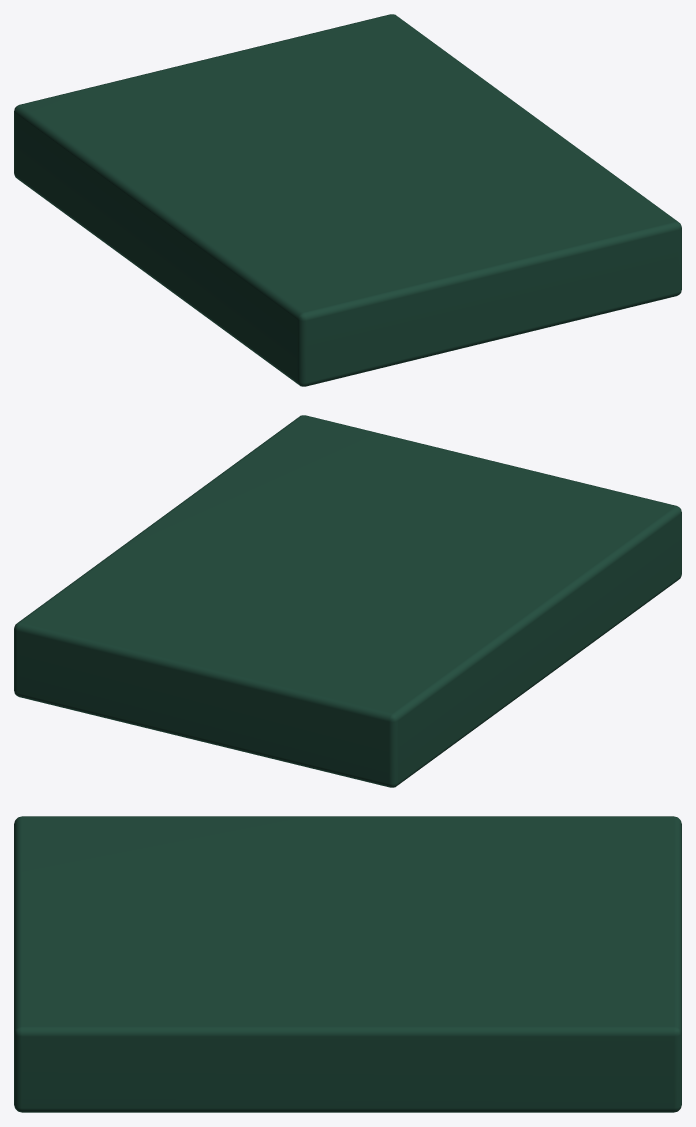
Rendered from SM_EG_Promotional_feature_sign_87734a6453.fbx.
The picture shows the model from 3 angles, top to bottom: view 1: azimuth 30°, elevation 25°; view 2: azimuth 150°, elevation 25°; view 3: azimuth 270°, elevation 25°; orthographic projection. The views are drawn at different scales.
Visible parts, largest first — view 1: SM_EG_Promotional_feature_sign_87734a6453; view 2: SM_EG_Promotional_feature_sign_87734a6453; view 3: SM_EG_Promotional_feature_sign_87734a6453.
Part boxes in pixels (x1,y1,x2,y2): SM_EG_Promotional_feature_sign_87734a6453: (14,14,681,386); SM_EG_Promotional_feature_sign_87734a6453: (14,415,681,787); SM_EG_Promotional_feature_sign_87734a6453: (14,816,681,1112).
Bounding box in the file's own units: 260 × 340 × 48.
